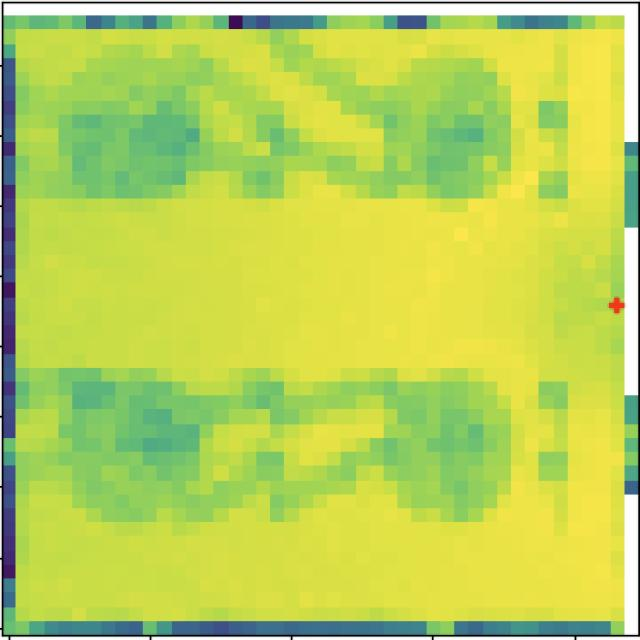Concrete: (379, 41, 520, 207)
Glass: (62, 45, 218, 206)
Metal: (369, 366, 524, 526)
Wood: (62, 366, 233, 530)
